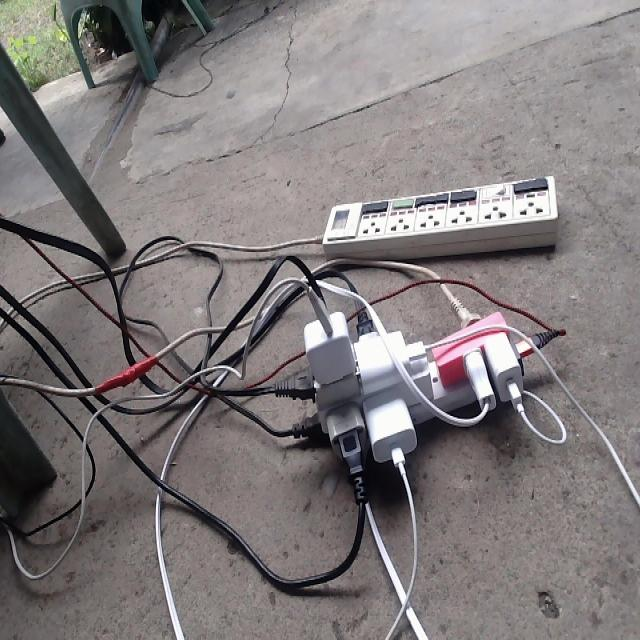-: (280, 300, 527, 471)
